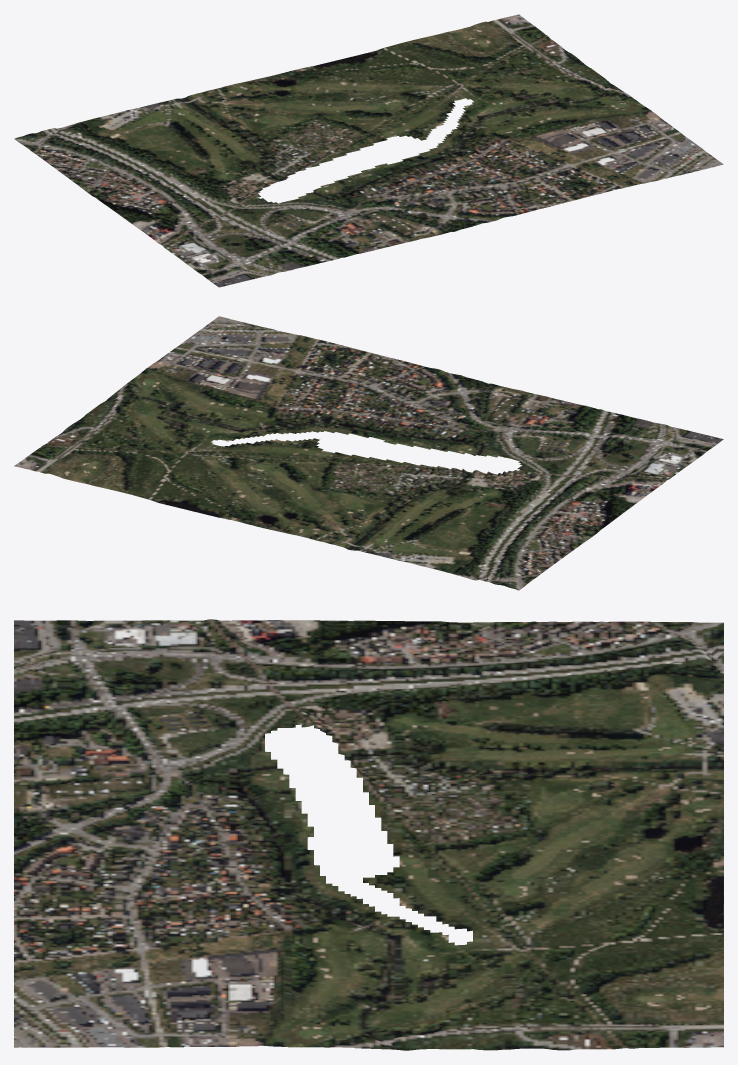
Rendered from yellow_3_wide.glb.
3 renders of one model, top to bottom at view 1: azimuth 30°, elevation 25°; view 2: azimuth 150°, elevation 25°; view 3: azimuth 270°, elevation 25°, orthographic. The views are drawn at different scales.
Parts seen in each view (by area): view 1: wide; view 2: wide; view 3: wide.
Part boxes in pixels (x1,y1,x2,y2): wide: [14, 14, 723, 287]; wide: [14, 316, 723, 590]; wide: [14, 619, 723, 1050].
Bounding box in the file's own units: 1320 × 10.34 × 928.
Materials: 1 (1 with a texture image).
